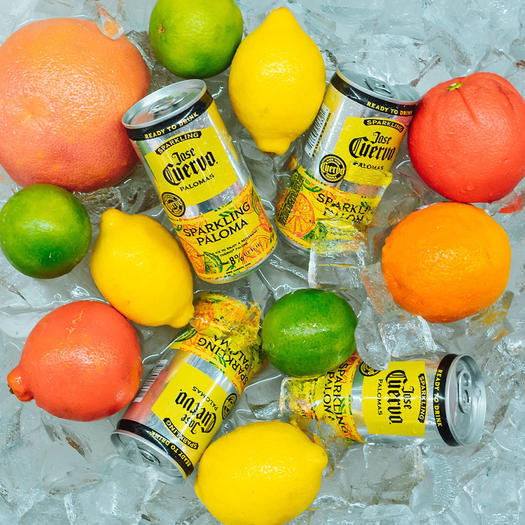can: (108, 287, 282, 486), (120, 75, 283, 286), (273, 60, 421, 261), (276, 349, 487, 453)
